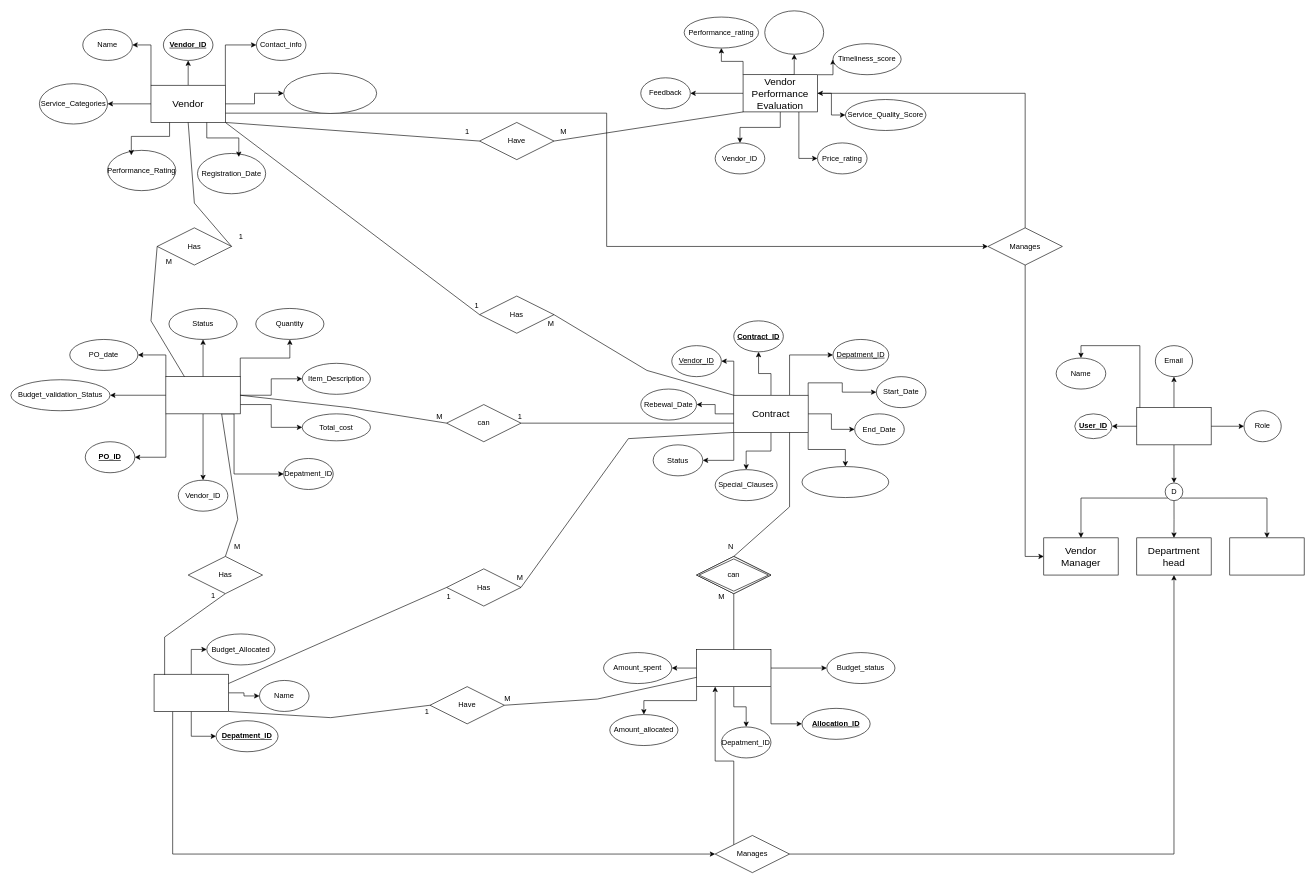
Image size: 1315x884. Some labels were removed from this diagram. The shapes that lost their labels are listed below. From the top down, each one's centre as x and y in pixels, then its label:
At (x=794, y=32): "Evaluation _ID".
At (x=330, y=93): "Compliance_Certifications".
At (x=202, y=395): "Purchase Order (PO)".
At (x=1173, y=426): "User".
At (x=845, y=482): "Terms_and _conditions".
At (x=1266, y=556): "Admin".
At (x=733, y=668): "Budget Allocation".
At (x=190, y=692): "Department".
